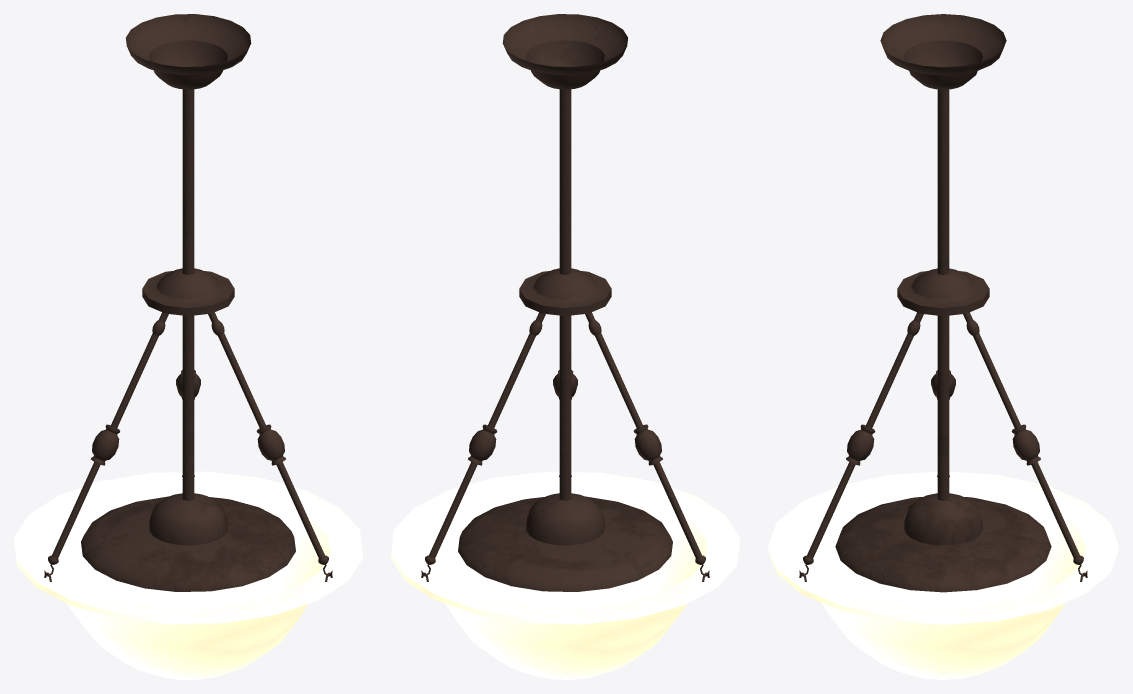
File: ratatouille_-_kitchen_light.glb
3 renders of one model, left to right at view 1: azimuth 30°, elevation 25°; view 2: azimuth 150°, elevation 25°; view 3: azimuth 270°, elevation 25°, orthographic.
Parts seen in each view (by area): view 1: Lamp_Glass_low_01, Metal_Top_low_01, Metal_End_Cap_low_01, Main_Beam_low_01, Metal_Middle_low_01, Small_Beam_low_01, Small_Beam_low_02, Beam_Buldge_low_02, Beam_Buldge_low_01; view 2: Lamp_Glass_low_01, Metal_Top_low_01, Metal_End_Cap_low_01, Main_Beam_low_01, Metal_Middle_low_01, Small_Beam_low_03, Small_Beam_low_01, Beam_Buldge_low_01, Beam_Buldge_low_03; view 3: Lamp_Glass_low_01, Metal_Top_low_01, Metal_End_Cap_low_01, Main_Beam_low_01, Metal_Middle_low_01, Small_Beam_low_02, Small_Beam_low_03, Beam_Buldge_low_03, Beam_Buldge_low_02.
Boxes of the visible parts, left/top/right/bottom form: Lamp_Glass_low_01: left=14, top=471, right=362, bottom=679; Metal_Top_low_01: left=81, top=493, right=295, bottom=591; Metal_End_Cap_low_01: left=126, top=14, right=251, bottom=89; Main_Beam_low_01: left=182, top=89, right=194, bottom=500; Metal_Middle_low_01: left=142, top=268, right=234, bottom=316; Small_Beam_low_01: left=51, top=312, right=168, bottom=558; Small_Beam_low_02: left=208, top=312, right=324, bottom=558; Beam_Buldge_low_02: left=256, top=424, right=285, bottom=465; Beam_Buldge_low_01: left=91, top=424, right=119, bottom=465; Lamp_Glass_low_01: left=391, top=471, right=739, bottom=679; Metal_Top_low_01: left=458, top=493, right=672, bottom=591; Metal_End_Cap_low_01: left=502, top=14, right=627, bottom=89; Main_Beam_low_01: left=559, top=89, right=571, bottom=500; Metal_Middle_low_01: left=519, top=268, right=611, bottom=316; Small_Beam_low_03: left=428, top=312, right=545, bottom=558; Small_Beam_low_01: left=585, top=312, right=701, bottom=558; Beam_Buldge_low_01: left=633, top=424, right=662, bottom=465; Beam_Buldge_low_03: left=468, top=424, right=496, bottom=465; Lamp_Glass_low_01: left=768, top=471, right=1118, bottom=679; Metal_Top_low_01: left=835, top=493, right=1051, bottom=592; Metal_End_Cap_low_01: left=880, top=14, right=1006, bottom=89; Main_Beam_low_01: left=937, top=89, right=949, bottom=500; Metal_Middle_low_01: left=897, top=268, right=989, bottom=316; Small_Beam_low_02: left=807, top=312, right=923, bottom=558; Small_Beam_low_03: left=963, top=312, right=1079, bottom=558; Beam_Buldge_low_03: left=1011, top=424, right=1040, bottom=465; Beam_Buldge_low_02: left=846, top=424, right=875, bottom=465.
Bounding box in the file's own units: 72.26 × 144 × 72.26.
2 materials, 2 textured.
